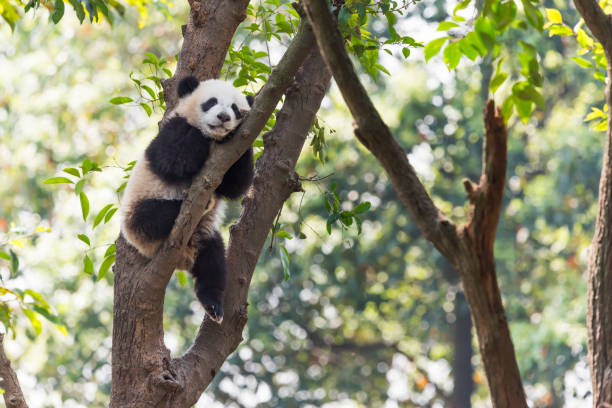panda: (167, 66, 264, 148)
